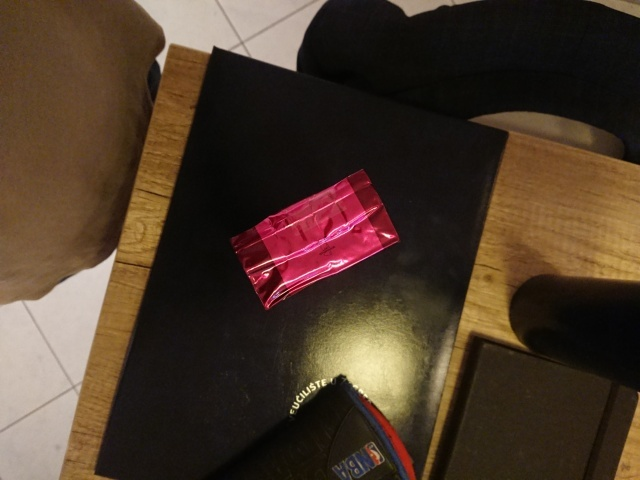Barcaffe Classic Original 225g: (228, 166, 404, 315)
